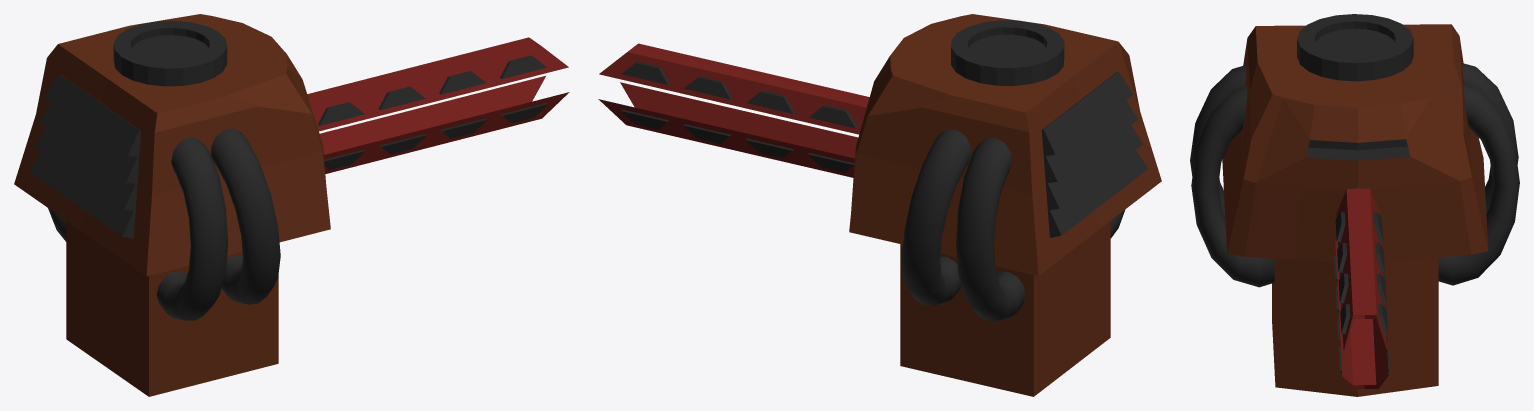
Rendered from TankTurret.fbx.
3 views of the same model, side by side, from view 1: azimuth 30°, elevation 25°; view 2: azimuth 150°, elevation 25°; view 3: azimuth 270°, elevation 25° (orthographic). The views are drawn at different scales.
Parts seen in each view (by area): view 1: Cube.004; view 2: Cube.004; view 3: Cube.004.
Part boxes in pixels (x1,y1,x2,y2): Cube.004: [14, 14, 569, 396]; Cube.004: [598, 14, 1161, 396]; Cube.004: [1190, 14, 1519, 396].
Bounding box in the file's own units: 4.61 × 2.76 × 2.63.
